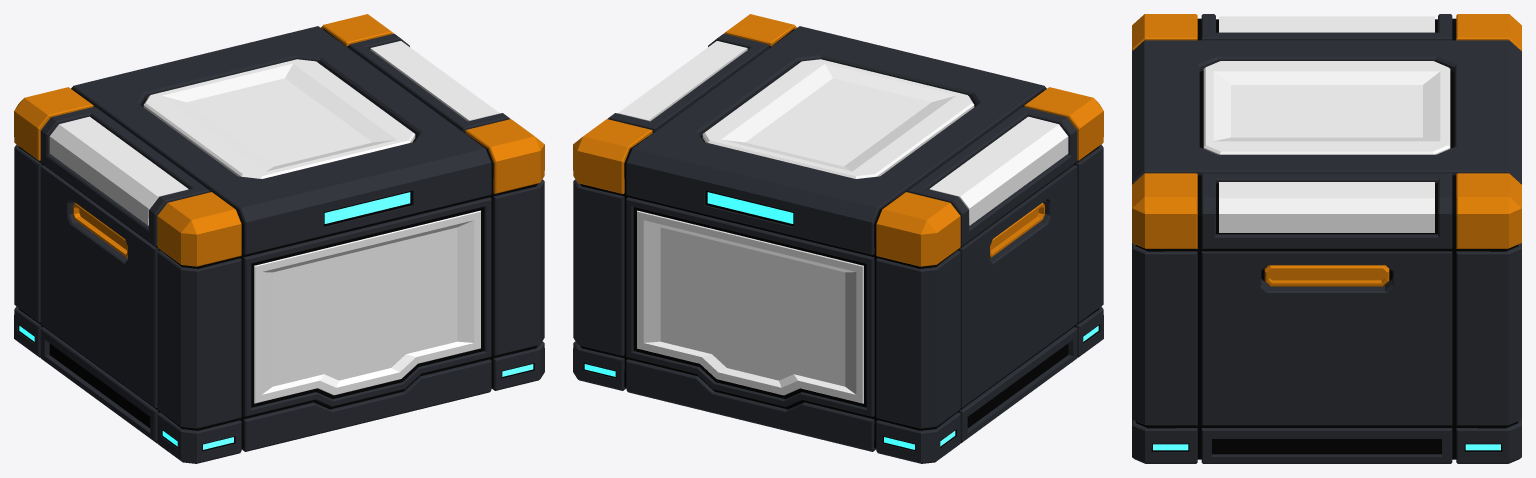
The model's file is storage_box.glb.
3 renders of one model, left to right at view 1: azimuth 30°, elevation 25°; view 2: azimuth 150°, elevation 25°; view 3: azimuth 270°, elevation 25°, orthographic. The views are drawn at different scales.
Visible parts, largest first — view 1: SM_Storage_Box; view 2: SM_Storage_Box; view 3: SM_Storage_Box.
Boxes of the visible parts, x1,y1,x2,y2 form: SM_Storage_Box: (14,14,544,463); SM_Storage_Box: (573,14,1103,463); SM_Storage_Box: (1132,14,1521,463).
Bounding box in the file's own units: 0.5915 × 0.3739 × 0.5027.
